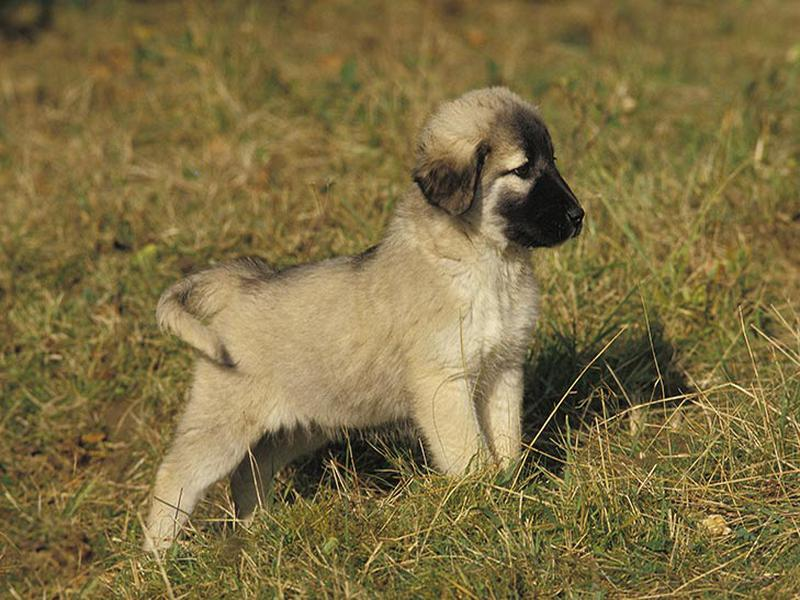dog_stand: (130, 83, 589, 574)
